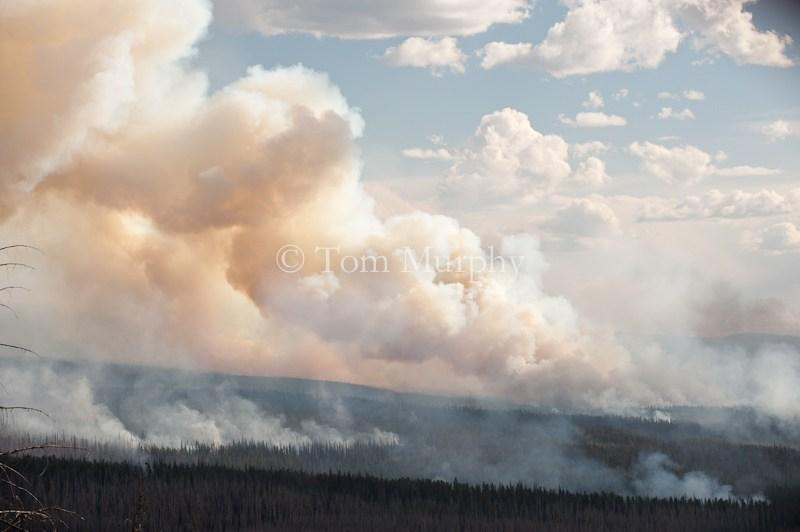smoke: (397, 275, 665, 422), (413, 412, 768, 508), (6, 386, 396, 450)
